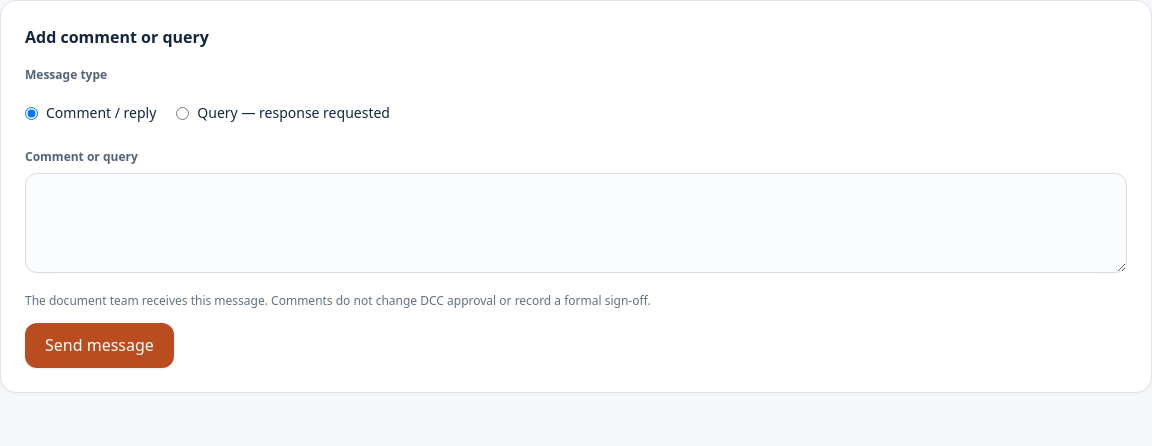
it: keeps the draft after a failed action and reports the failure as an alert
Step 1. Click the radio button labelled "Query — response requested" → (183, 113), box [176,106,189,120]
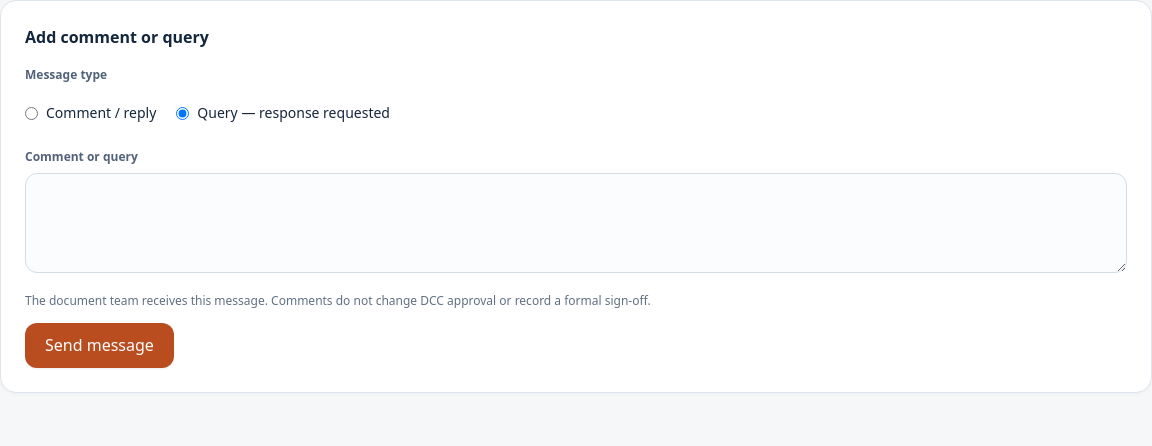
Step 2. Type "Check the cable routing interface" into the text box labelled "Comment or query" → (576, 223), box [25,173,1127,273]
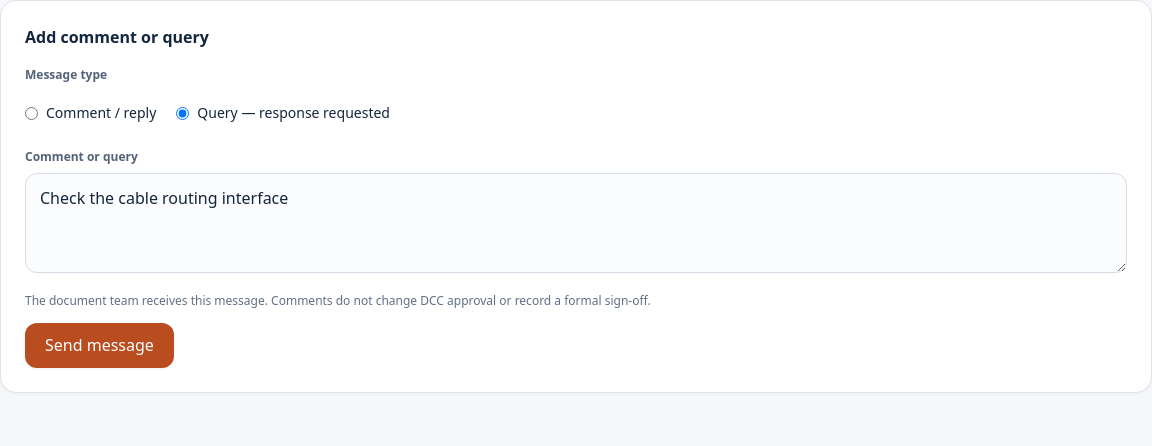
Step 3. Submit the form named "Add interdisciplinary comment or query"
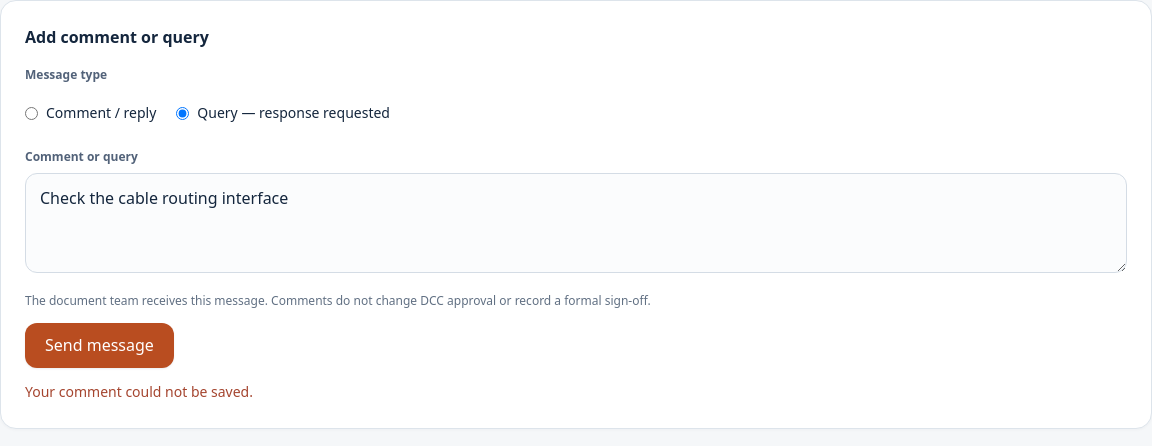
Check: the radio button labelled "Query — response requested" is checked, box [176,106,189,120]
Check: the message shows "could not be saved", box [25,382,253,401]
